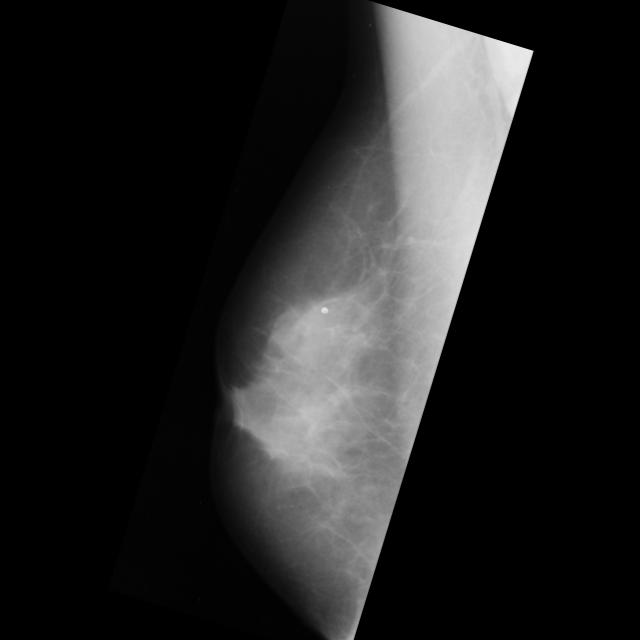CALC: (357, 3, 640, 161)
